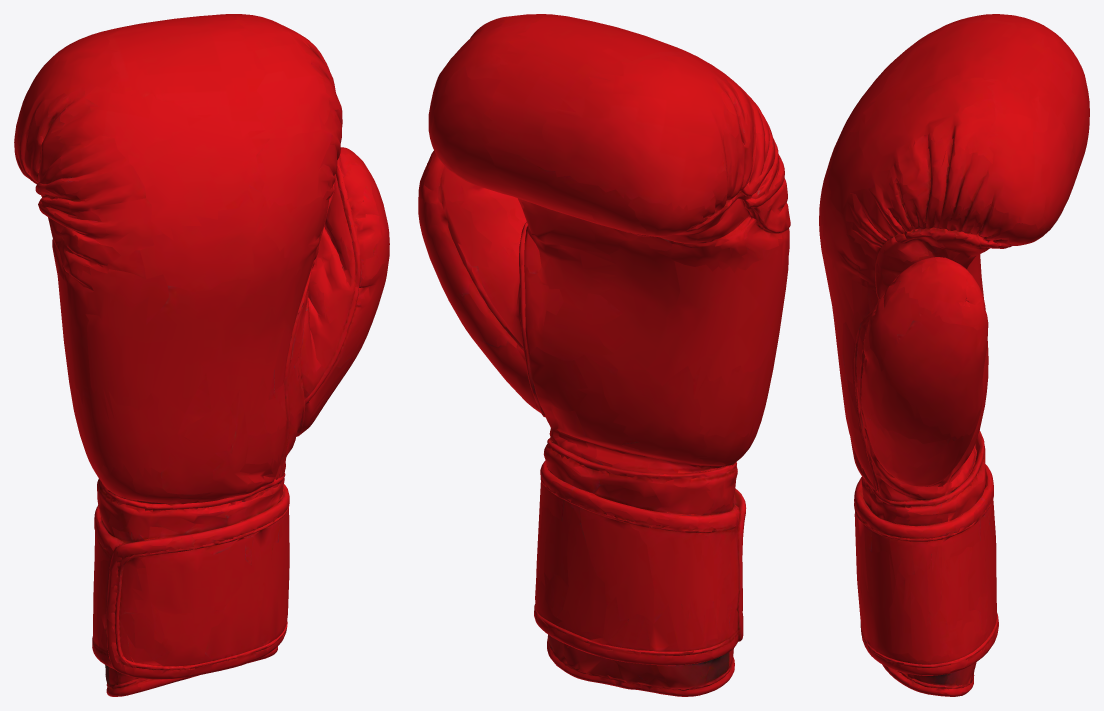
File: glove.glb
3 renders of one model, left to right at view 1: azimuth 30°, elevation 25°; view 2: azimuth 150°, elevation 25°; view 3: azimuth 270°, elevation 25°, orthographic. The views are drawn at different scales.
Visible parts, largest first — view 1: Mesh_0; view 2: Mesh_0; view 3: Mesh_0.
Boxes of the visible parts, x1,y1,x2,y2 form: Mesh_0: (14, 14, 389, 696); Mesh_0: (418, 14, 790, 696); Mesh_0: (819, 14, 1089, 696).
Size of the model in its own units: 1.04 by 1.9 by 0.7404.
1 material, 1 textured.
